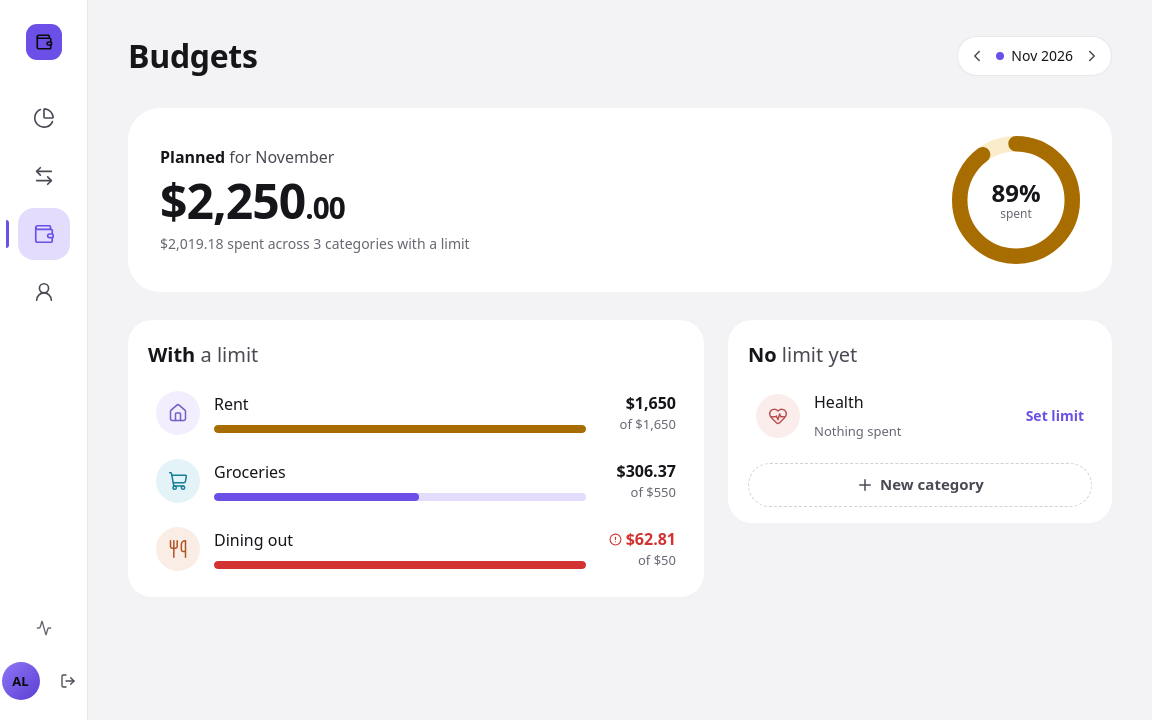
Scenario: creating a category that already exists shows why
Expected: the element "Planned for November" is shown, [128,108,1112,292]
Click the button "New category" at [920, 485], box [748,463,1092,507]
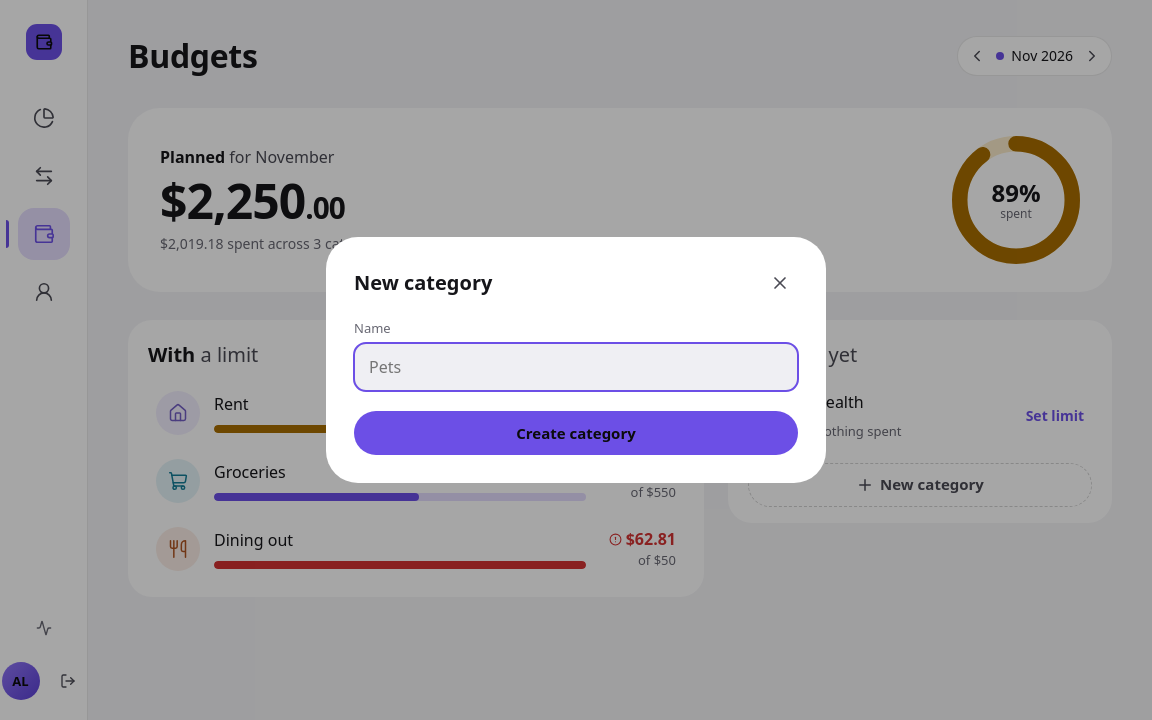
Type "Health" into the field labelled "Name" at [576, 367], box [354,343,798,391]
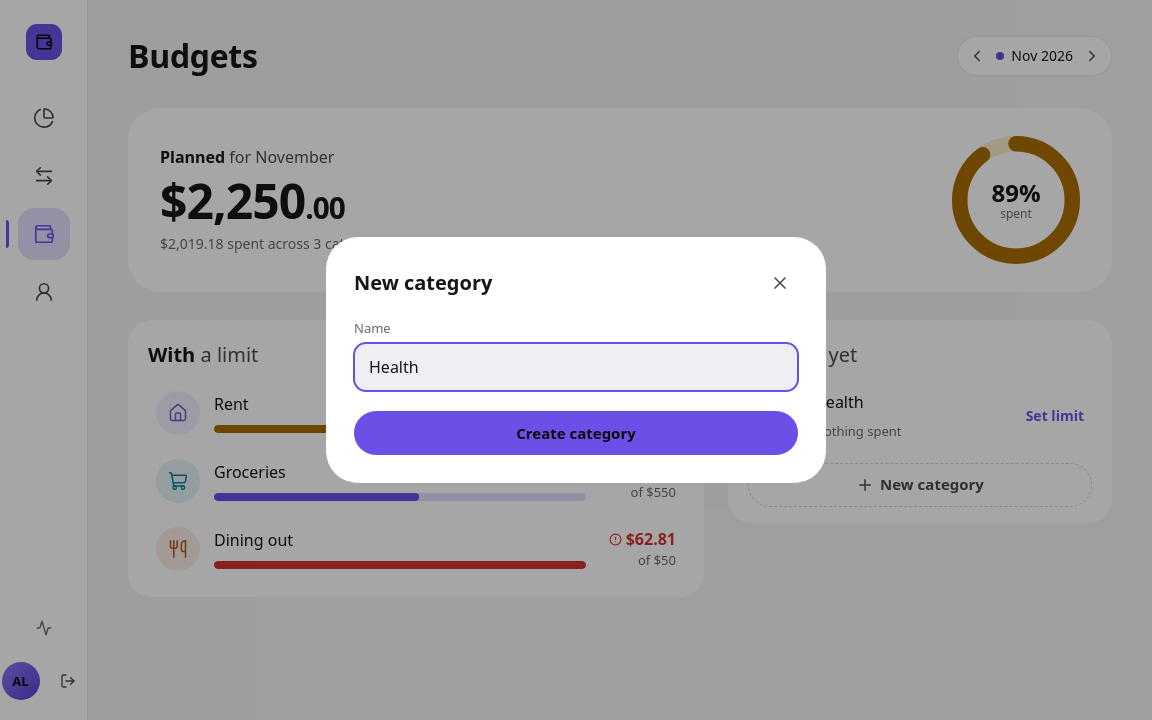
Click the button "Create category" at [576, 433], box [354,411,798,455]
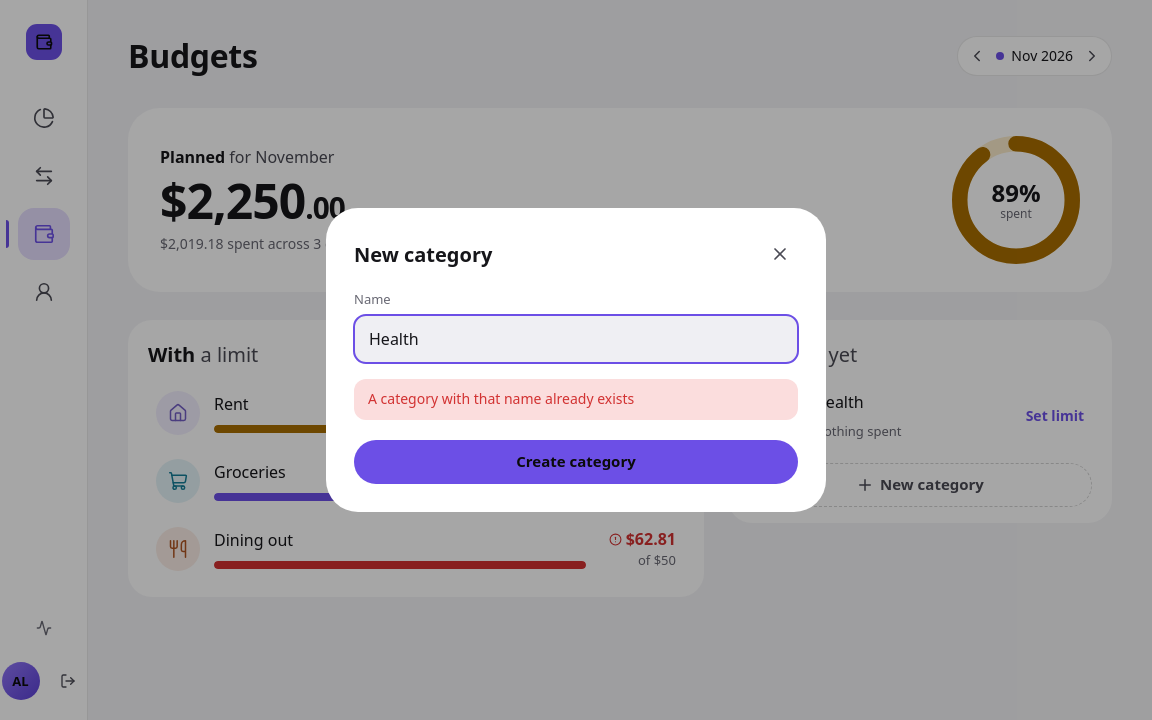
Expected: the text "A category with that name already exists" is shown, [354,379,798,420]
